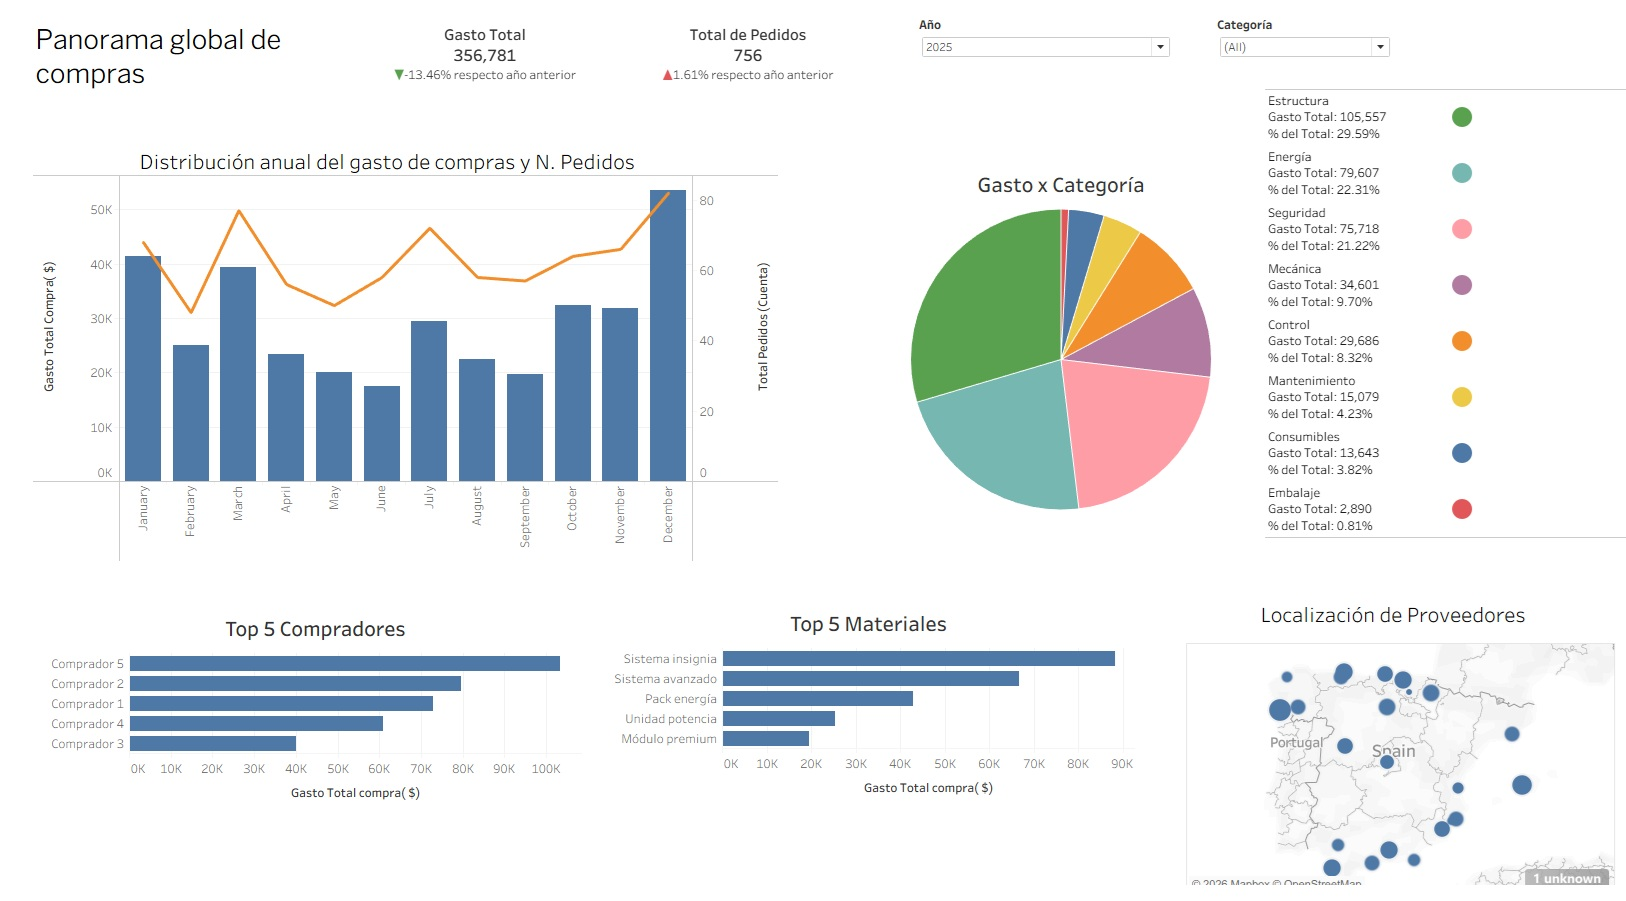

The page's visual inventory and layout, read from the dashboard file:
{"tool":"tableau","page":{"name":"GastVolOper","canvas":[1600,900],"ordinal":3},"visuals":[{"type":"text","box":[13,8,309,84]},{"type":"filter","title":"GtoVolum","param":"[federated.1c9wdf00njrirr15ikbx604gjcok].[none:Purchasing Category:nk]","box":[1197,10,176,52]},{"type":"parameter","param":"[Parameters].[Parameter 1]","box":[899.2,10.1,254.4,66.4]},{"type":"worksheet","title":"kpiGasto","mark":"Automatic","box":[365,18,215,99]},{"type":"worksheet","title":"kpiCompras","mark":"Automatic","box":[610,18,271,87]},{"type":"text","box":[117,134,592,42]},{"type":"worksheet","title":"GtosxCateg","mark":"Pie","box":[805,160,472,344]},{"type":"worksheet","title":"GtoVolum","mark":"Automatic","rows":["Purchasing Volume (total price)","Calculation_0409328829554696"],"cols":["PO Date"],"box":[12.8,168.8,745.6,387]},{"type":"text","box":[1238,587,360,42]},{"type":"worksheet","title":"Top5Materiales","mark":"Automatic","rows":["Material group"],"cols":["Purchasing Volume (total price)"],"box":[582.4,598.5,532.8,299.2]},{"type":"worksheet","title":"Top5Compradores","mark":"Automatic","rows":["Buyer"],"cols":["Purchasing Volume (total price)"],"box":[28.8,604.1,532.8,299.2]},{"type":"worksheet","title":"Mapa","mark":"Automatic","box":[1166.4,636.8,428.8,250.9]}]}

Visuals, with their boxes in screenshot pixels (x1, y1, x2, y2), scaled from the page's 1600x900 canvas onto the 1626x901 screenshot:
text: crop(13, 8, 327, 92)
"GtoVolum" filter: crop(1216, 10, 1395, 62)
parameter: crop(914, 10, 1172, 77)
"kpiGasto" worksheet: crop(371, 18, 589, 117)
"kpiCompras" worksheet: crop(620, 18, 895, 105)
text: crop(119, 134, 721, 176)
"GtosxCateg" worksheet (Pie marks): crop(818, 160, 1298, 505)
"GtoVolum" worksheet: crop(13, 169, 771, 556)
text: crop(1258, 588, 1624, 630)
"Top5Materiales" worksheet: crop(592, 599, 1133, 899)
"Top5Compradores" worksheet: crop(29, 605, 571, 900)
"Mapa" worksheet: crop(1185, 638, 1621, 889)
